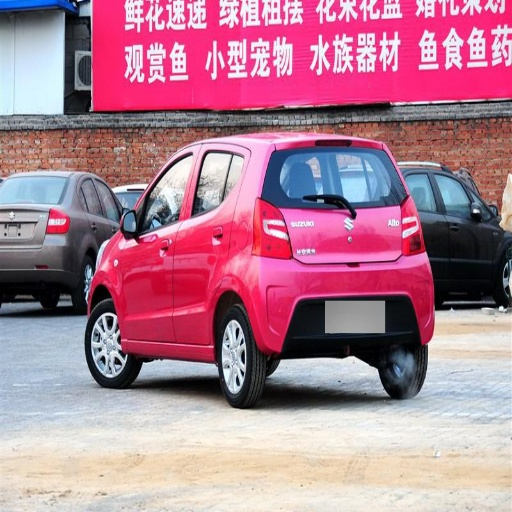back_bumper: (253, 255, 434, 355)
back_glass: (265, 159, 326, 204), (4, 179, 69, 203)
back_left_door: (175, 149, 237, 345)
front_glass: (306, 144, 407, 206)
hood: (347, 202, 413, 256)
trunk: (264, 209, 395, 292), (2, 206, 51, 263)
